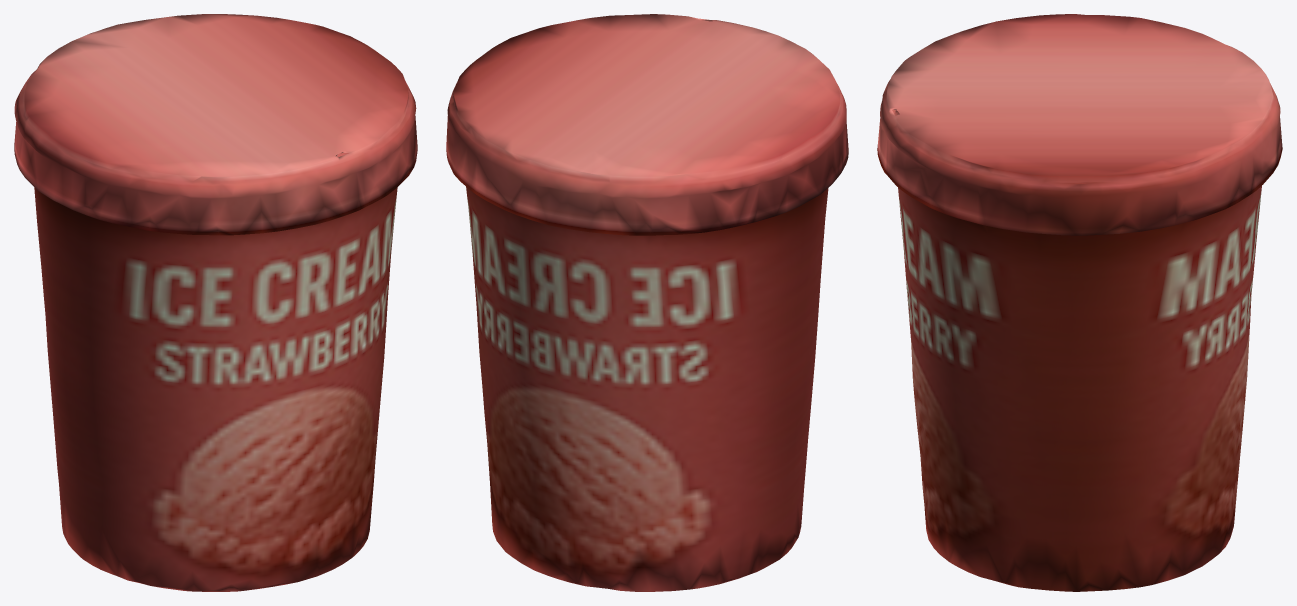
File: PotGlaceFraise.fbx
3 renders of one model, left to right at view 1: azimuth 30°, elevation 25°; view 2: azimuth 150°, elevation 25°; view 3: azimuth 270°, elevation 25°, orthographic.
Parts seen in each view (by area): view 1: Mesh1.0; view 2: Mesh1.0; view 3: Mesh1.0.
Part boxes in pixels (x1=…): Mesh1.0: x1=14, y1=14, x2=417, y2=591; Mesh1.0: x1=446, y1=14, x2=848, y2=591; Mesh1.0: x1=877, y1=14, x2=1282, y2=591.
Bounding box in the file's own units: 170 × 201 × 170.
1 material, 1 textured.
